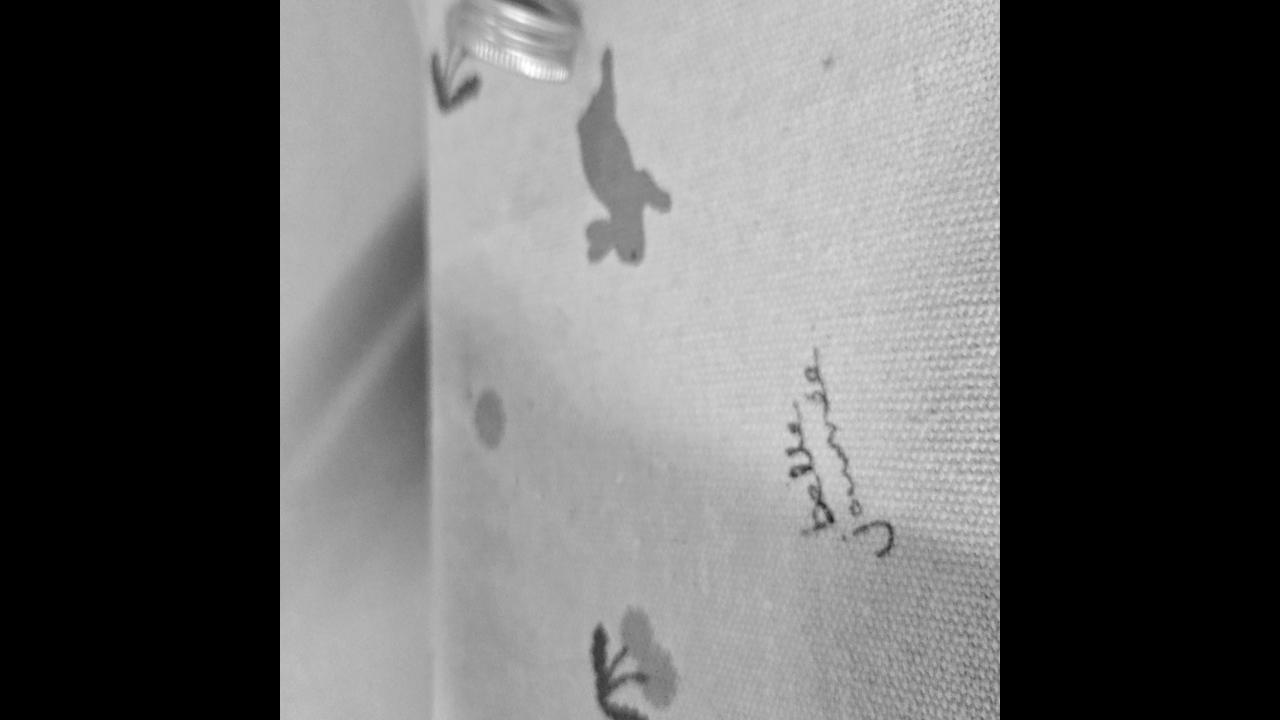bottle_cap: (462, 0, 577, 80)
